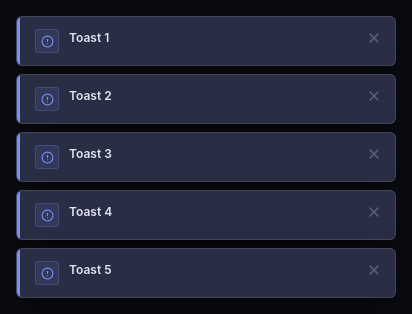
ToastContainer › promotes exactly one queued toast, appended at the bottom, when a visible toast is removed
Click the button named "Dismiss notification" in the row of "Toast 1" at (374, 38), box [365,29,383,47]
Wait 240 ms
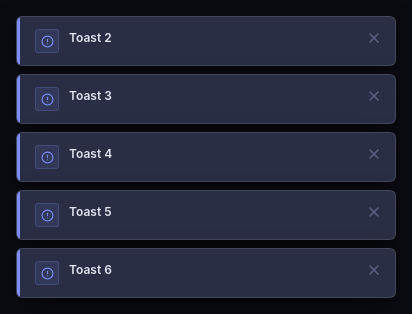
Check: the text "Toast 1" is gone
